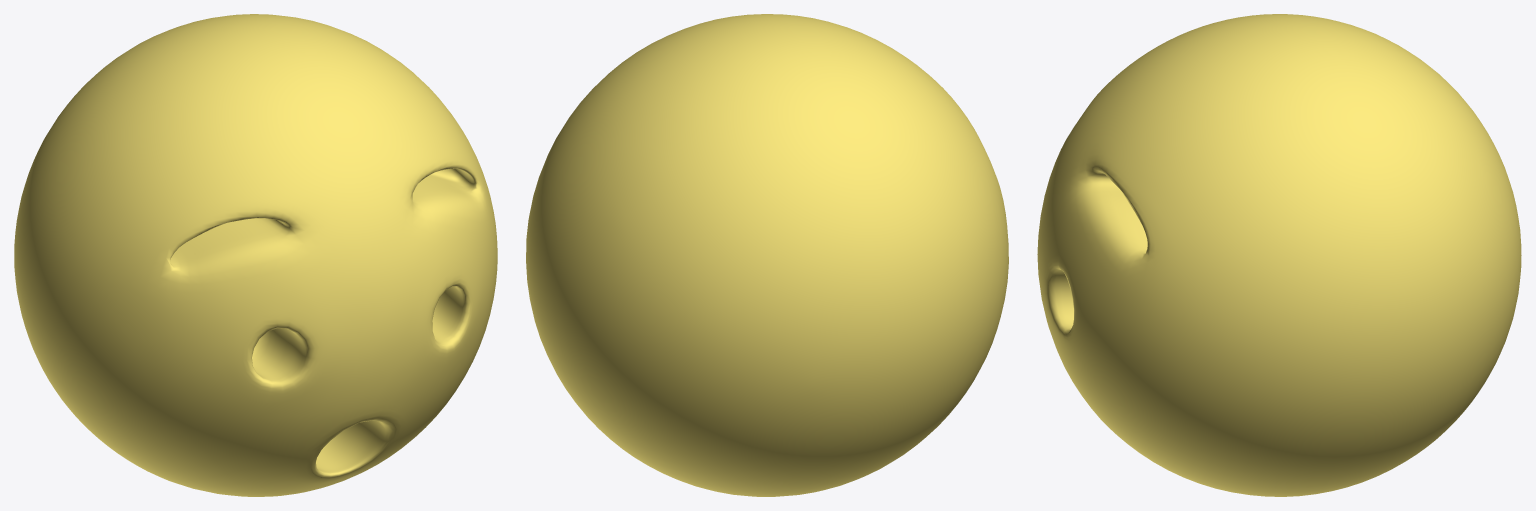
Rendered from 69_shock.glb.
The picture shows the model from 3 angles, left to right: view 1: azimuth 30°, elevation 25°; view 2: azimuth 150°, elevation 25°; view 3: azimuth 270°, elevation 25°; orthographic projection.
Visible parts, largest first — view 1: Group18920; view 2: Group18920; view 3: Group18920.
Boxes of the visible parts, x1,y1,x2,y2 form: Group18920: (14, 14, 497, 496); Group18920: (526, 14, 1008, 496); Group18920: (1037, 14, 1521, 496).
Size of the model in its own units: 0.5146 by 0.5144 by 0.5157.
